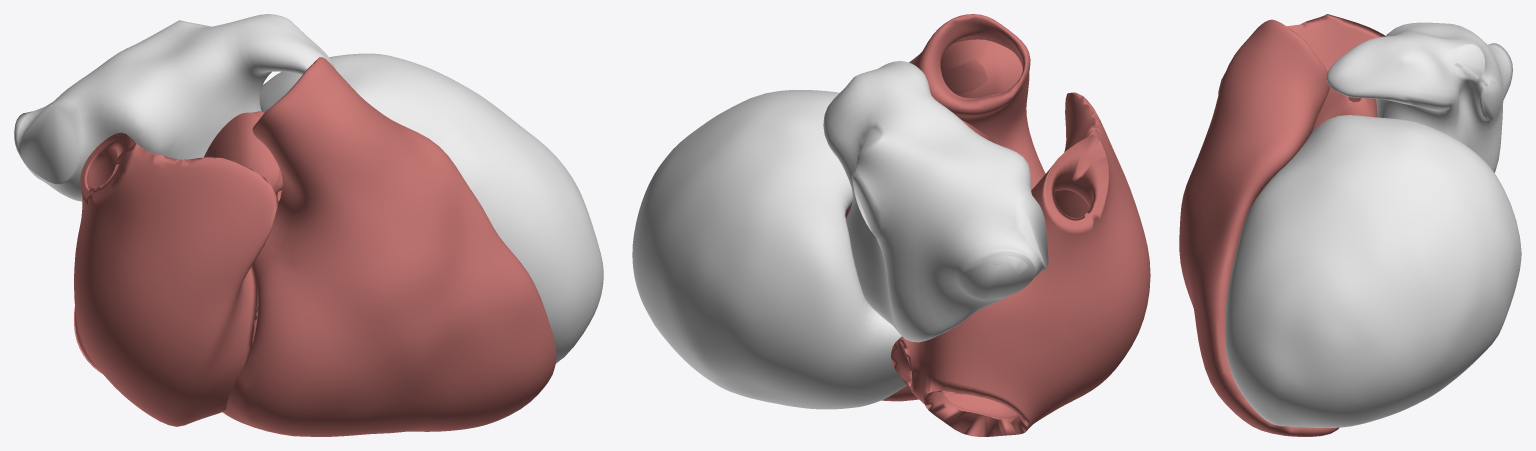
Rendered from vh_f_heart-100.fbx.
The picture shows the model from 3 angles, left to right: view 1: azimuth 30°, elevation 25°; view 2: azimuth 150°, elevation 25°; view 3: azimuth 270°, elevation 25°; orthographic projection. The views are drawn at different scales.
Visible parts, largest first — view 1: VH_F_right_ventricle, VH_F_right_cardiac_atrium, VH_F_left_ventricle, VH_F_left_cardiac_atrium, VH_F_aortic_valve; view 2: VH_F_left_ventricle, VH_F_left_cardiac_atrium, VH_F_right_cardiac_atrium, VH_F_right_ventricle, VH_F_pulmonary_valve; view 3: VH_F_left_ventricle, VH_F_right_ventricle, VH_F_left_cardiac_atrium, VH_F_right_cardiac_atrium, VH_F_aortic_valve.
Part boxes in pixels (<box>): VH_F_right_ventricle: <box>222,57,556,436</box>; VH_F_right_cardiac_atrium: <box>74,132,278,426</box>; VH_F_left_ventricle: <box>259,53,603,363</box>; VH_F_left_cardiac_atrium: <box>14,14,335,201</box>; VH_F_aortic_valve: <box>204,111,282,202</box>; VH_F_left_ventricle: <box>632,90,906,409</box>; VH_F_left_cardiac_atrium: <box>823,61,1048,342</box>; VH_F_right_cardiac_atrium: <box>890,92,1150,436</box>; VH_F_right_ventricle: <box>881,14,1045,401</box>; VH_F_pulmonary_valve: <box>940,39,1022,97</box>; VH_F_left_ventricle: <box>1225,115,1521,427</box>; VH_F_right_ventricle: <box>1179,19,1339,436</box>; VH_F_left_cardiac_atrium: <box>1326,22,1512,172</box>; VH_F_right_cardiac_atrium: <box>1218,14,1385,101</box>; VH_F_aortic_valve: <box>1312,87,1377,132</box>.
Size of the model in its own units: 14.25 by 11 by 10.15.
